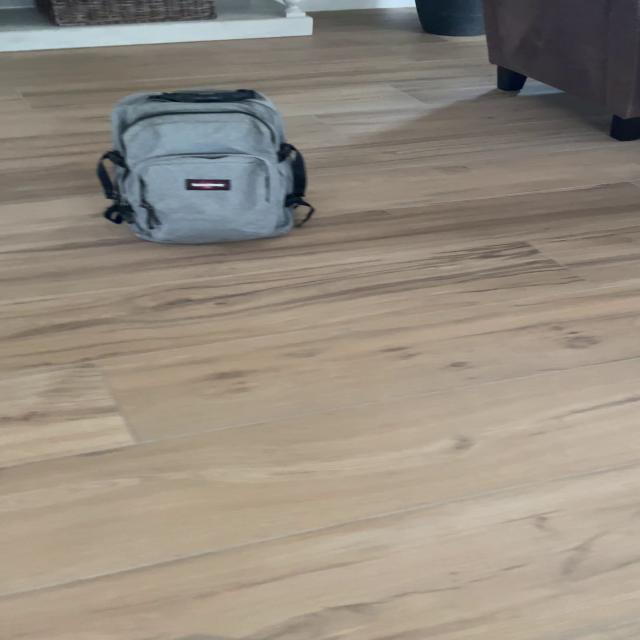backpack: (84, 79, 322, 251)
